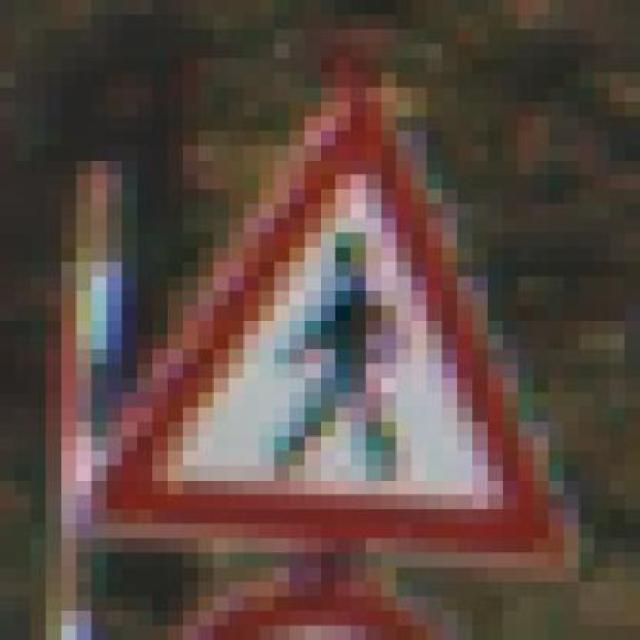Pedestrian Crossing: (76, 29, 579, 582)
